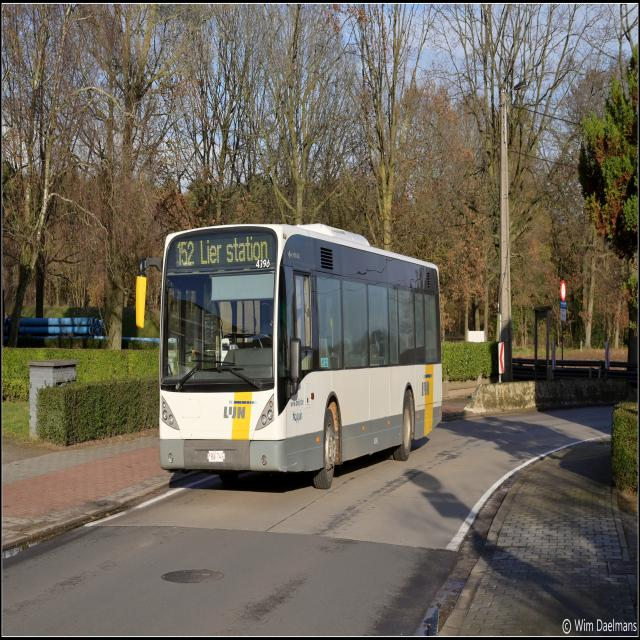bus-number: (176, 240, 195, 268)
